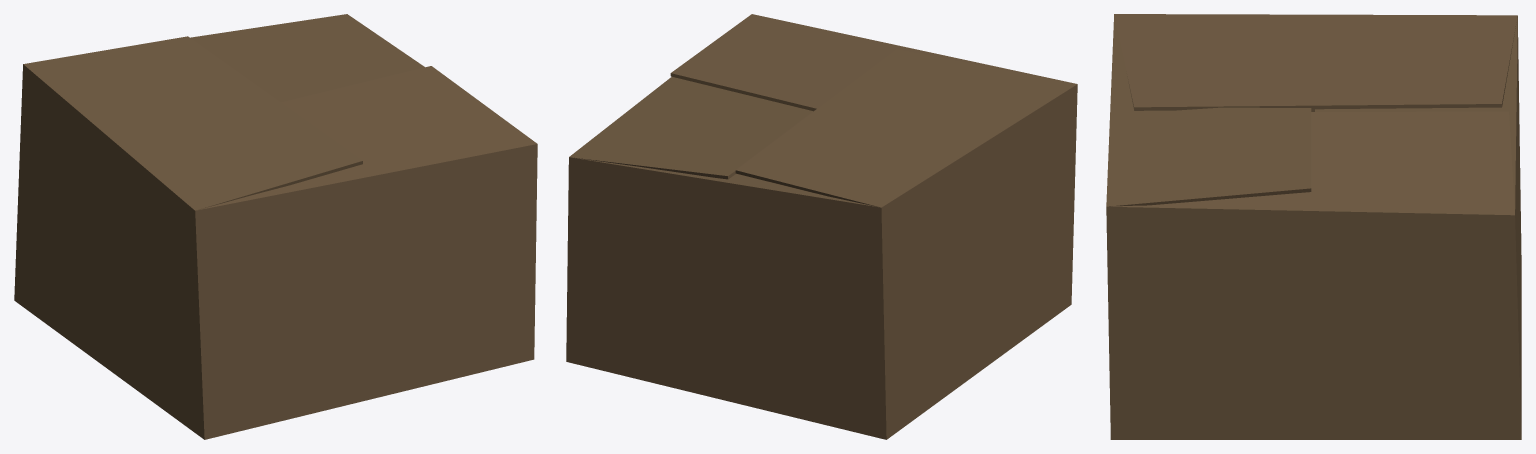
The model's file is ladorbox.fbx.
The picture shows the model from 3 angles, left to right: view 1: azimuth 30°, elevation 25°; view 2: azimuth 150°, elevation 25°; view 3: azimuth 270°, elevation 25°; orthographic projection. The views are drawn at different scales.
Parts seen in each view (by area): view 1: Plane.001; view 2: Plane.001; view 3: Plane.001.
Boxes of the visible parts, x1=… form: Plane.001: x1=14, y1=14, x2=537, y2=439; Plane.001: x1=566, y1=14, x2=1077, y2=439; Plane.001: x1=1106, y1=14, x2=1521, y2=439.
Bounding box in the file's own units: 105 × 70.19 × 104.
